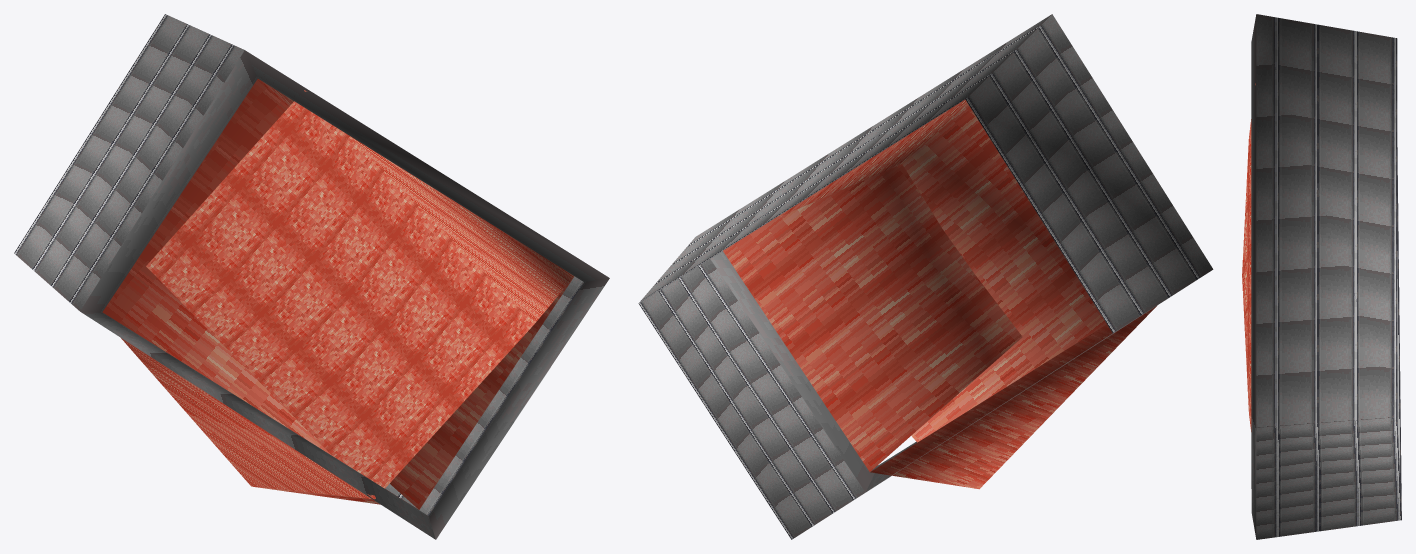
File: 1133item604r.gltf
The picture shows the model from 3 angles, left to right: view 1: azimuth 30°, elevation 25°; view 2: azimuth 150°, elevation 25°; view 3: azimuth 270°, elevation 25°; orthographic projection. The views are drawn at different scales.
Parts seen in each view (by area): view 1: 1133item604r; view 2: 1133item604r; view 3: 1133item604r.
Boxes of the visible parts, x1=… form: 1133item604r: x1=14, y1=14, x2=609, y2=539; 1133item604r: x1=638, y1=14, x2=1213, y2=539; 1133item604r: x1=1242, y1=14, x2=1401, y2=539.
Size of what is drawn, in the model's own units: 1.04 by 1 by 0.3241.
2 materials, 2 textured.
